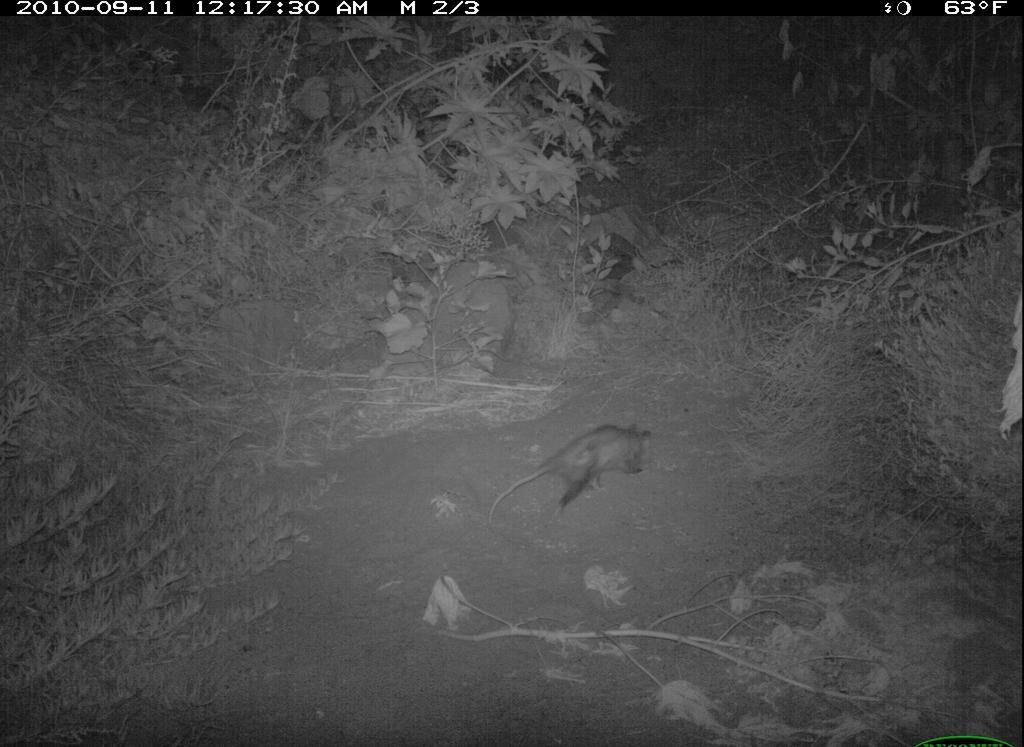opossum: (482, 418, 657, 528)
